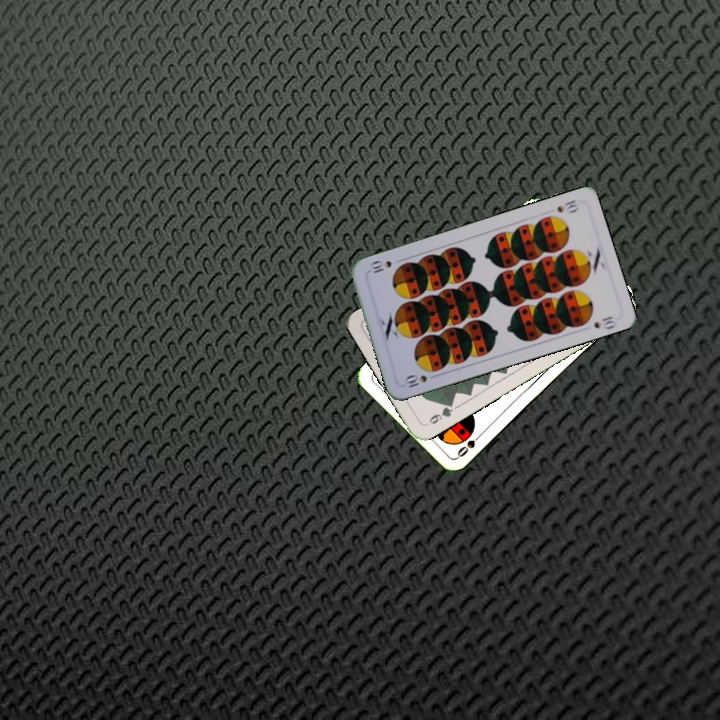G9: (422, 398, 456, 428)
S10: (401, 370, 440, 390), (552, 196, 582, 216)
SO: (453, 428, 486, 460)
